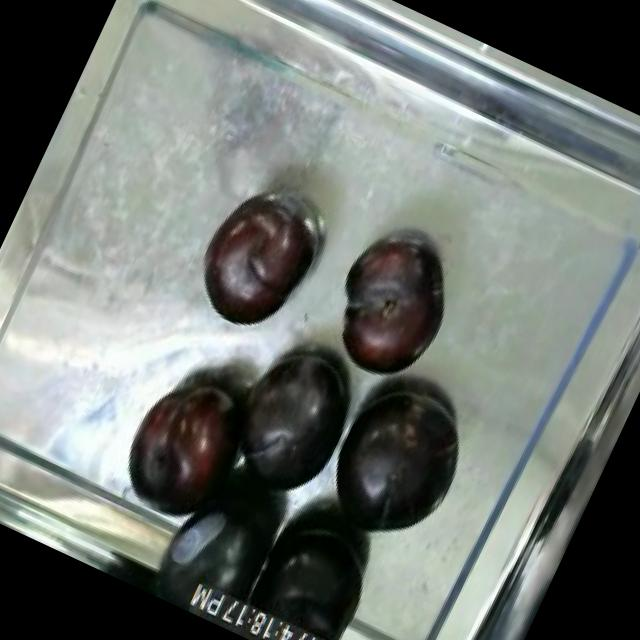Fruit: (199, 318, 382, 524), (304, 368, 486, 570), (305, 214, 478, 402), (101, 352, 271, 540), (177, 180, 337, 352)
